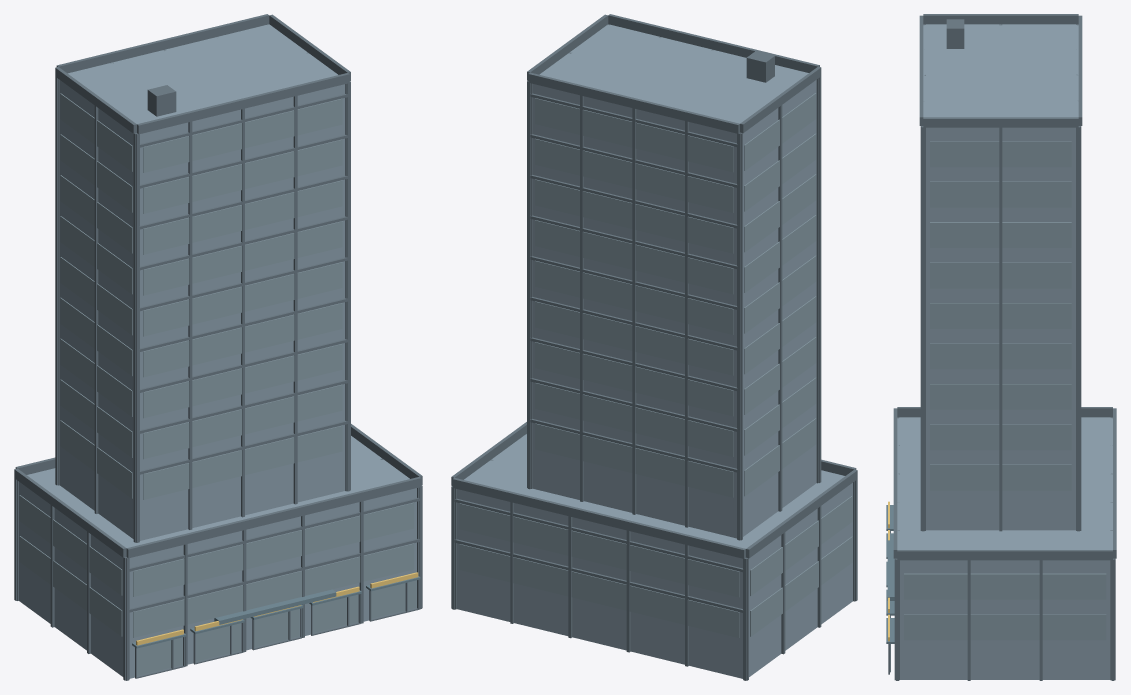
Rendered from commercial_3x2_b.glb.
3 views of the same model, side by side, from view 1: azimuth 30°, elevation 25°; view 2: azimuth 150°, elevation 25°; view 3: azimuth 270°, elevation 25° (orthographic).
Visible parts, largest first — view 1: commercial_3x2_b_0; view 2: commercial_3x2_b_0; view 3: commercial_3x2_b_0.
Boxes of the visible parts, bbox=[...] form: commercial_3x2_b_0: bbox=[14, 14, 422, 680]; commercial_3x2_b_0: bbox=[451, 14, 857, 680]; commercial_3x2_b_0: bbox=[886, 14, 1116, 680].
Size of the model in its own units: 23 by 40.5 by 15.5.
